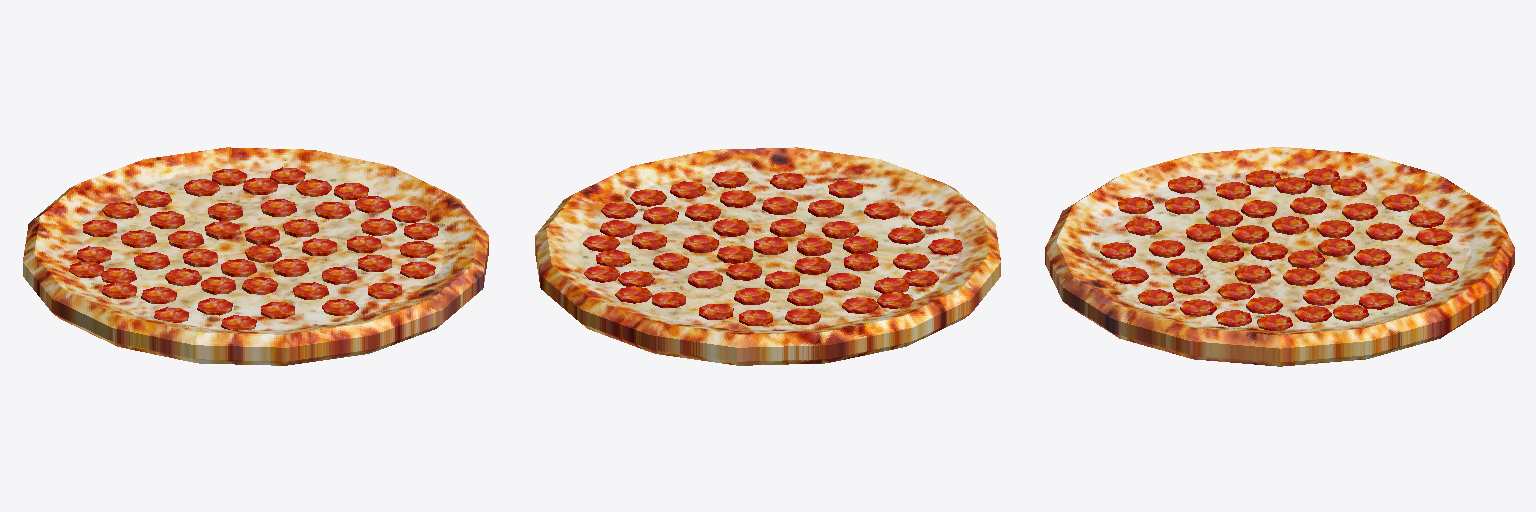
3 views of the same model, side by side, from view 1: azimuth 30°, elevation 25°; view 2: azimuth 150°, elevation 25°; view 3: azimuth 270°, elevation 25° (orthographic).
Parts seen in each view (by area): view 1: PizzaQueso, Pepperoni; view 2: PizzaQueso, Pepperoni; view 3: PizzaQueso, Pepperoni.
Boxes of the visible parts, x1=… form: PizzaQueso: x1=23, y1=147, x2=488, y2=365; Pepperoni: x1=69, y1=167, x2=438, y2=329; PizzaQueso: x1=535, y1=147, x2=1000, y2=365; Pepperoni: x1=583, y1=171, x2=962, y2=325; PizzaQueso: x1=1045, y1=147, x2=1514, y2=366; Pepperoni: x1=1100, y1=168, x2=1458, y2=330.
Bounding box in the file's own units: 8.54 × 0.5972 × 8.54.
1 materials, 1 textured.